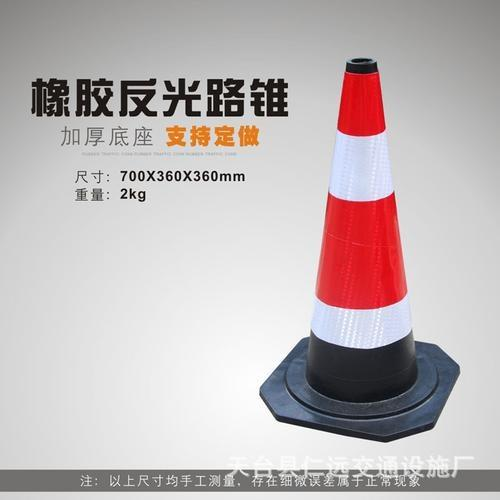cone_barrel: (279, 61, 432, 418)
